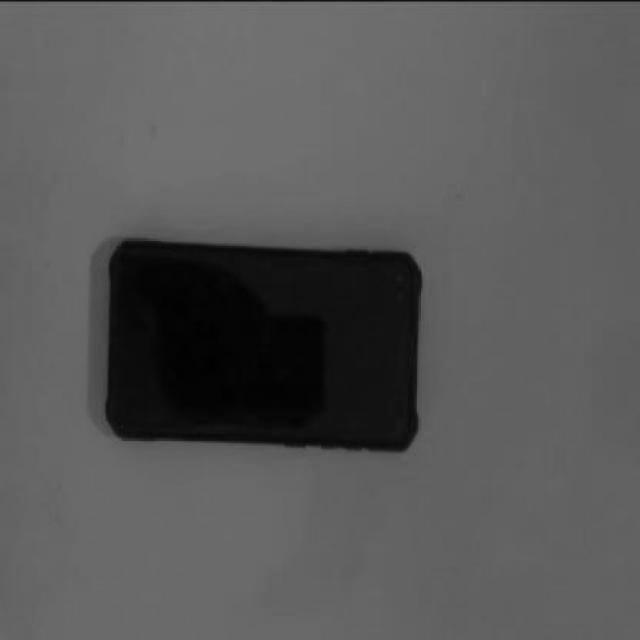fake: (108, 232, 418, 450)
